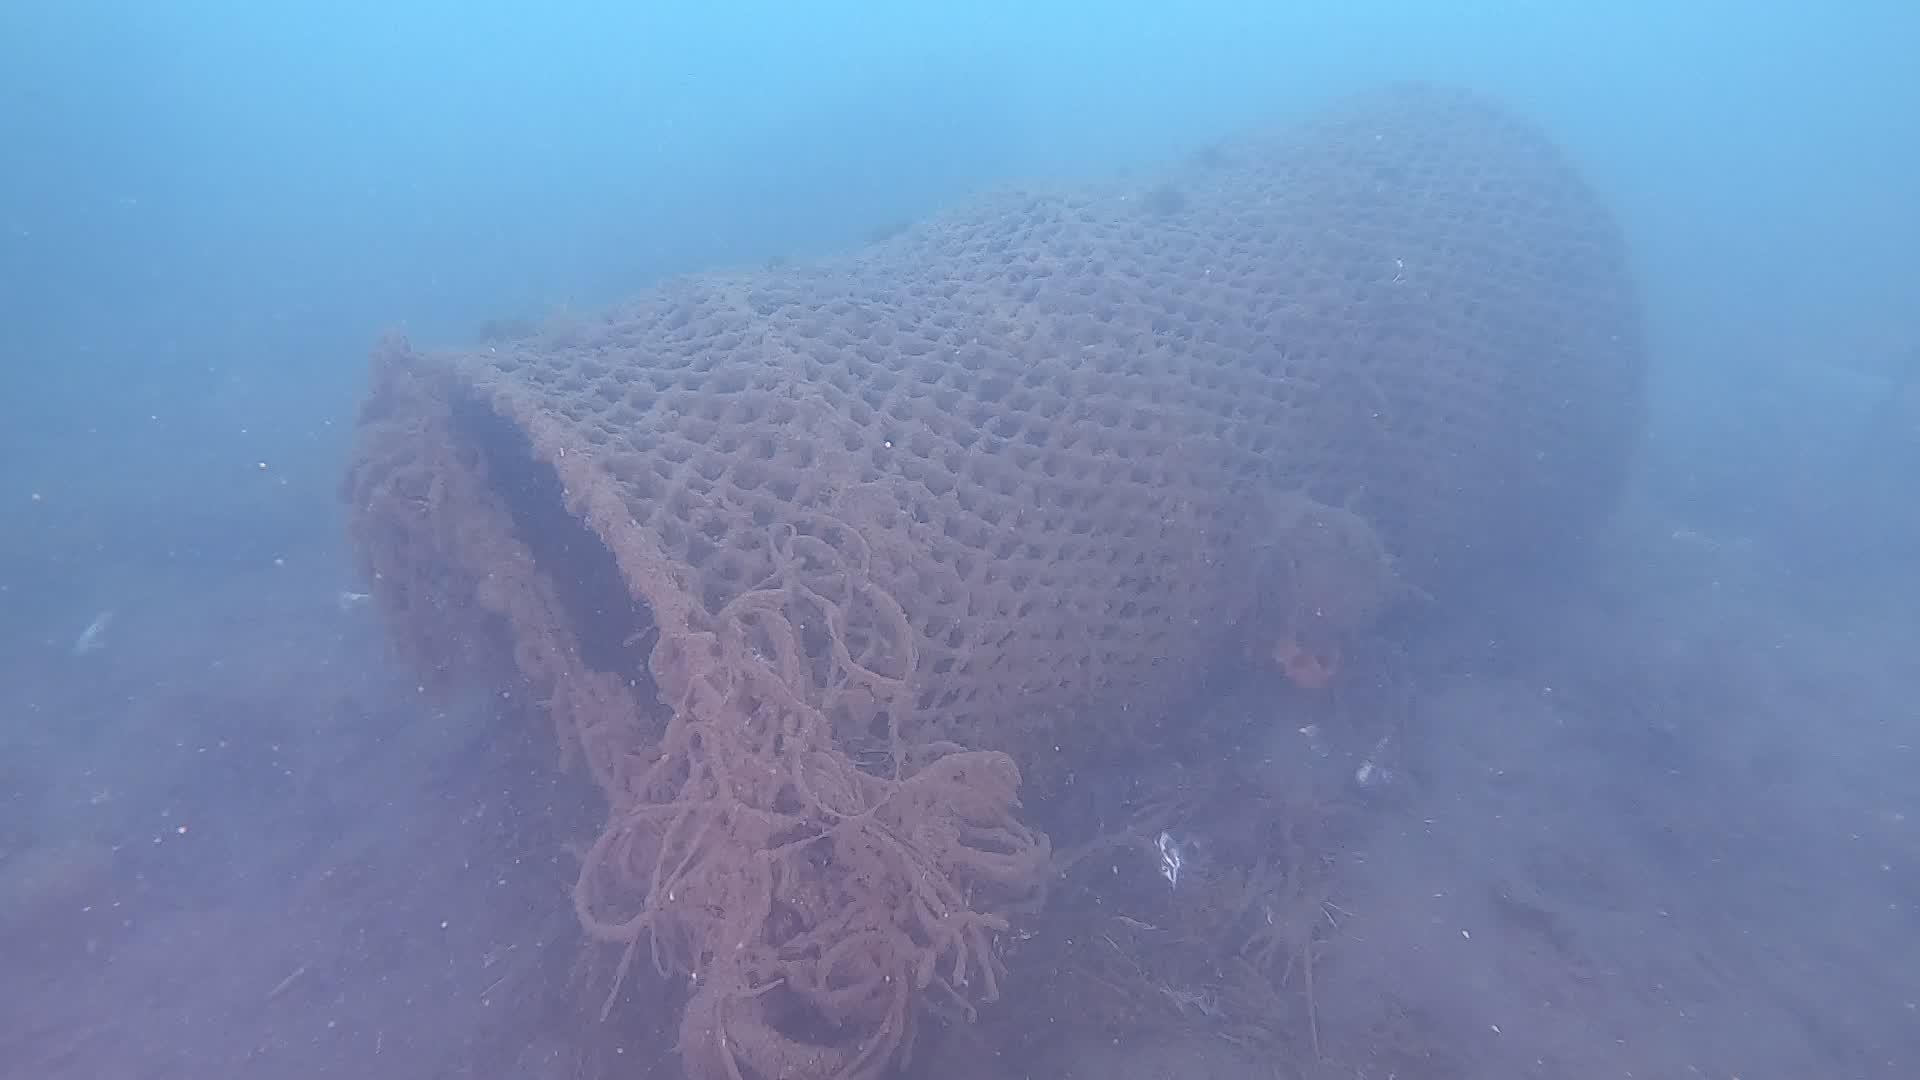spring fish trap: (349, 63, 1654, 920)
